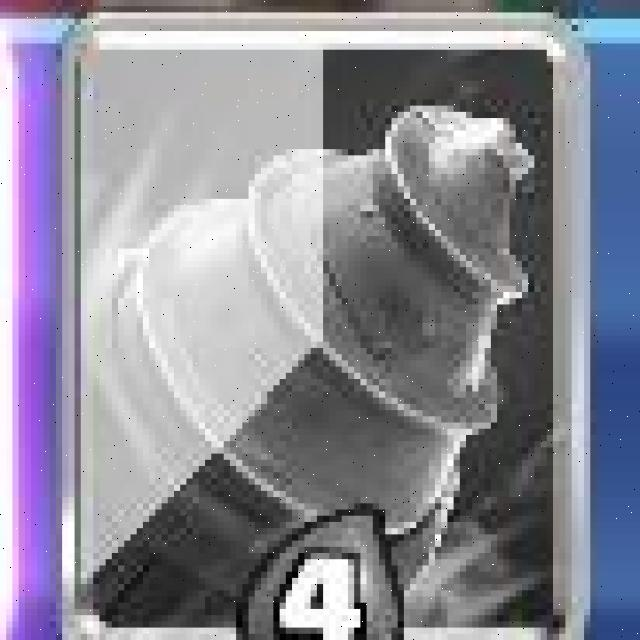Goblin_Drill: (58, 11, 588, 640)
